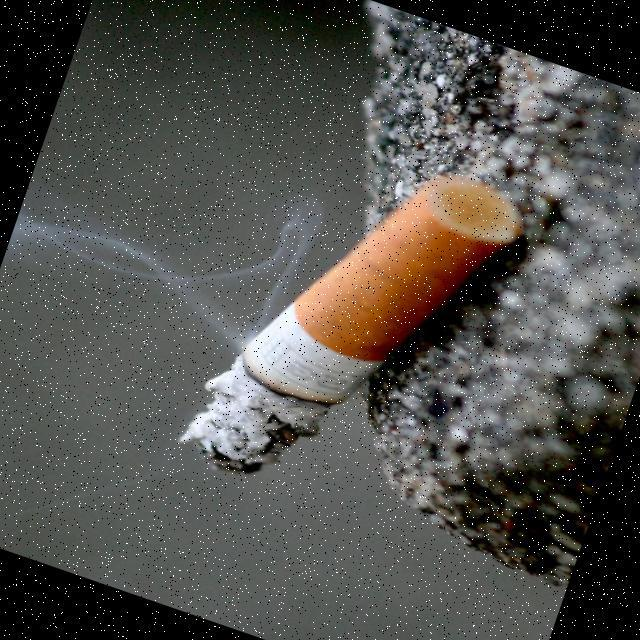cigarette: (164, 107, 534, 544)
